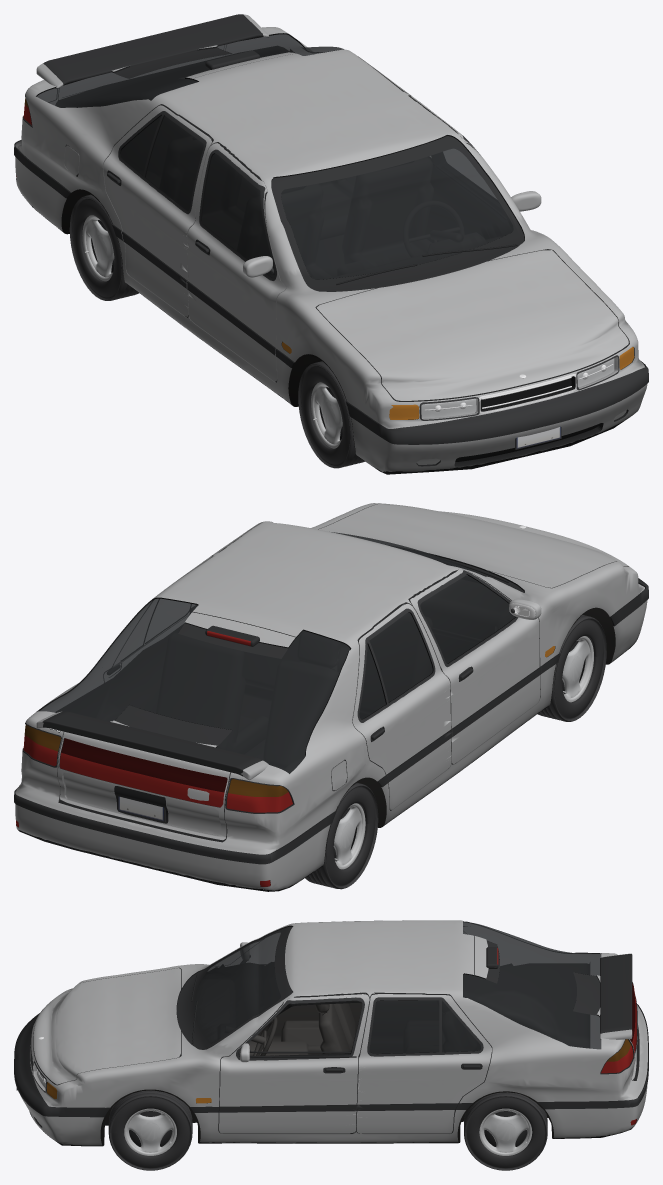
File: car_hero_wip.glb
The picture shows the model from 3 angles, top to bottom: view 1: azimuth 30°, elevation 25°; view 2: azimuth 150°, elevation 25°; view 3: azimuth 270°, elevation 25°; orthographic projection. The views are drawn at different scales.
Parts seen in each view (by area): view 1: body, wheel_FR, wheel_RR; view 2: body, wheel_FR, wheel_RR; view 3: body, wheel_FL, wheel_RL.
Part boxes in pixels (box(x1,y1,x2,y2)): body: box(14, 14, 648, 474); wheel_FR: box(298, 361, 364, 468); wheel_RR: box(69, 194, 138, 300); body: box(14, 503, 648, 891); wheel_FR: box(537, 615, 606, 721); wheel_RR: box(305, 783, 378, 889); body: box(14, 920, 648, 1146); wheel_FL: box(108, 1090, 192, 1170); wheel_RL: box(464, 1092, 547, 1170).
Bounding box in the file's own units: 1.99 × 1.42 × 4.78.
12 materials, 1 textured.
